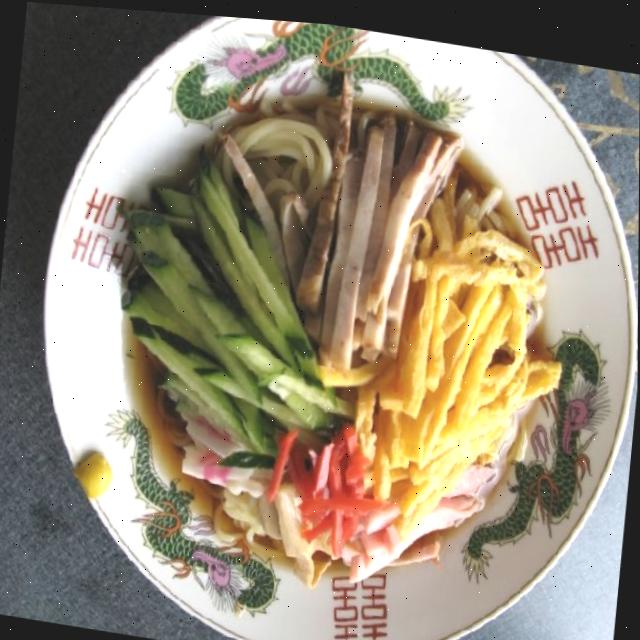面条主食: (11, 1, 640, 640)
